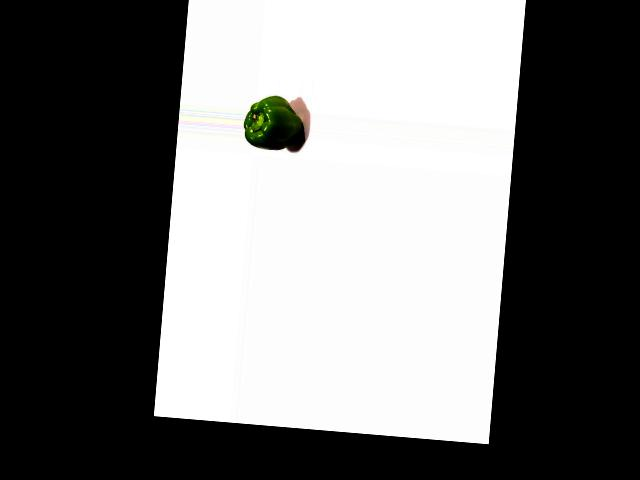bell_pepper: (242, 91, 307, 153)
